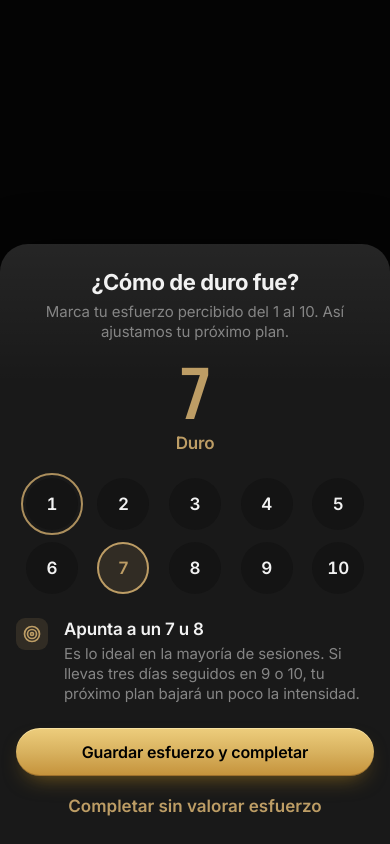
Test case: workout effort check-in › saves the effort the user picks on the 1 to 10 scale
This screenshot has width=390, height=844.
Later steps or results of the test are not shown.
Click the radio button named "9,": (267, 568) [241,542,293,594]
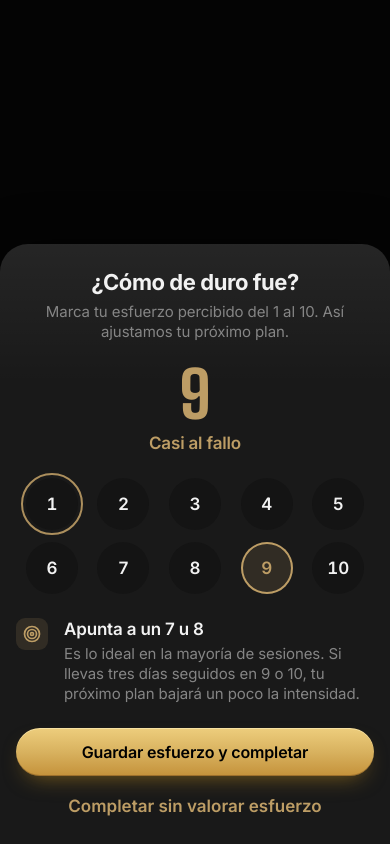
Expected: the radio button named "9," is checked, [241,542,293,594]
